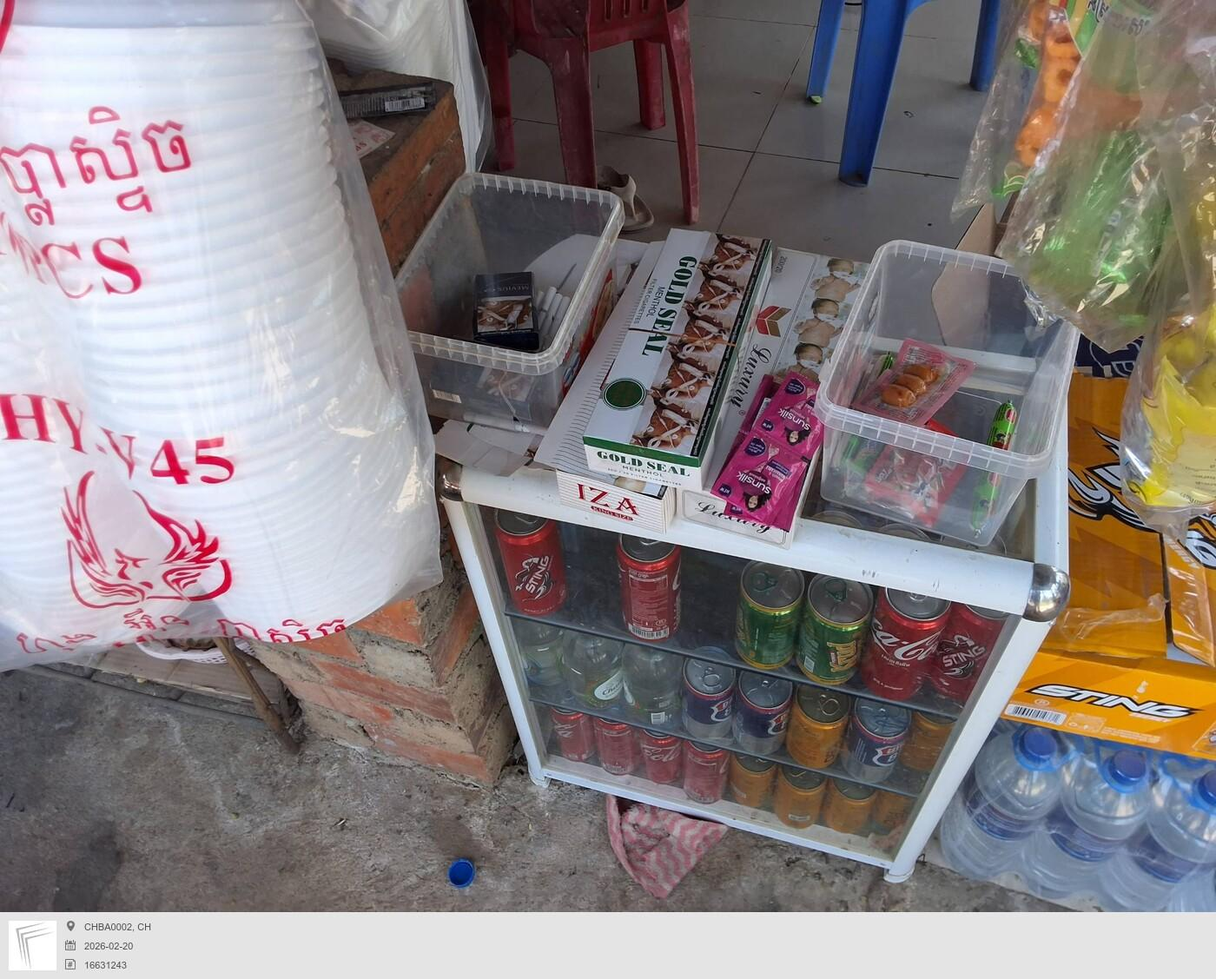cigarette_pack: (675, 244, 877, 550), (584, 227, 780, 472), (556, 470, 675, 531)
